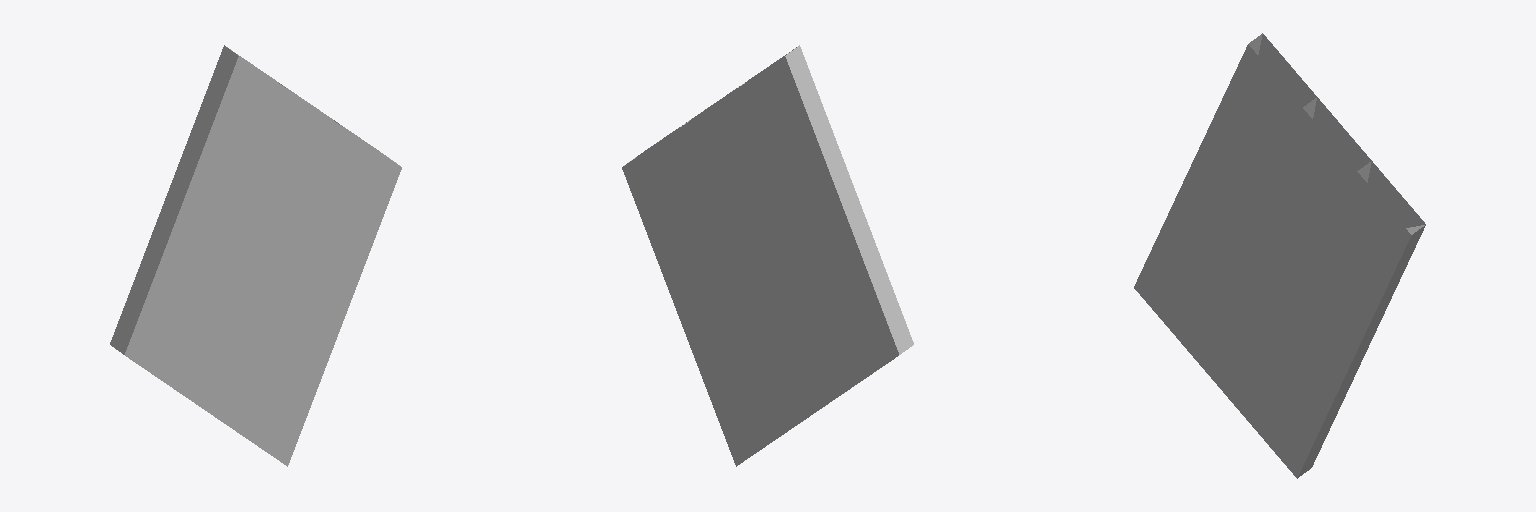
Rendered from 3d_Felwood-Creek 03.wlw.obj.
The picture shows the model from 3 angles: view 1: azimuth 30°, elevation 25°; view 2: azimuth 150°, elevation 25°; view 3: azimuth 330°, elevation 25°; orthographic projection.
Size of the model in its own units: 109 by 158 by 10.